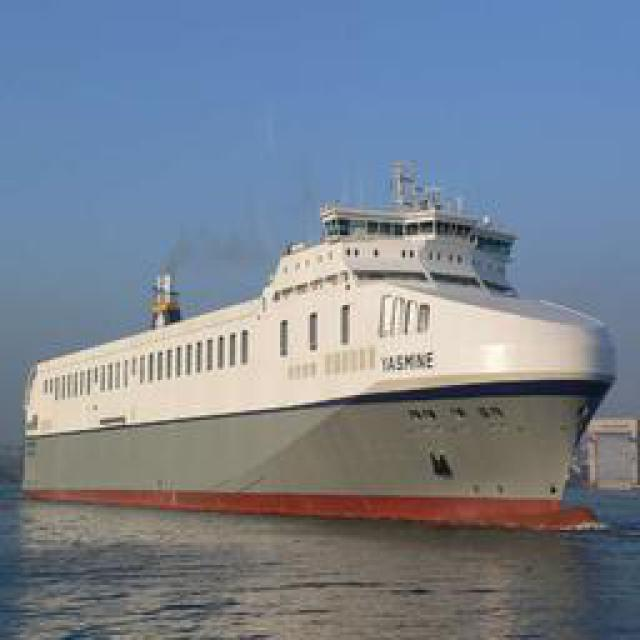Ship: (27, 176, 627, 524)
